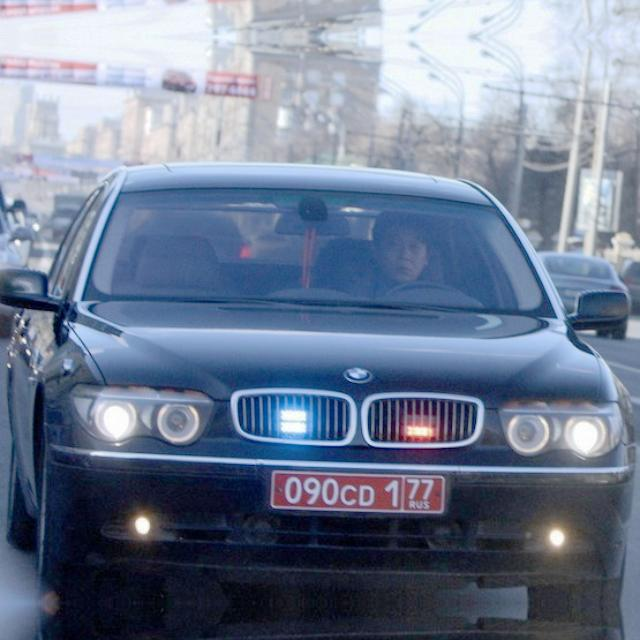diplomatic: (266, 463, 450, 523)
